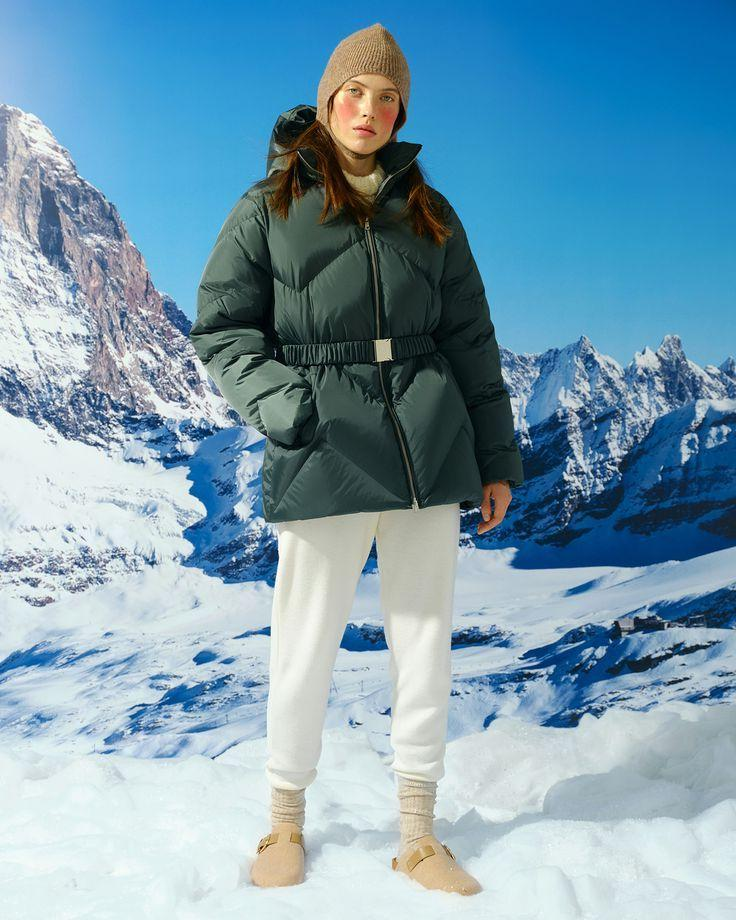coat: (187, 104, 524, 524)
trousers: (259, 499, 463, 796)
